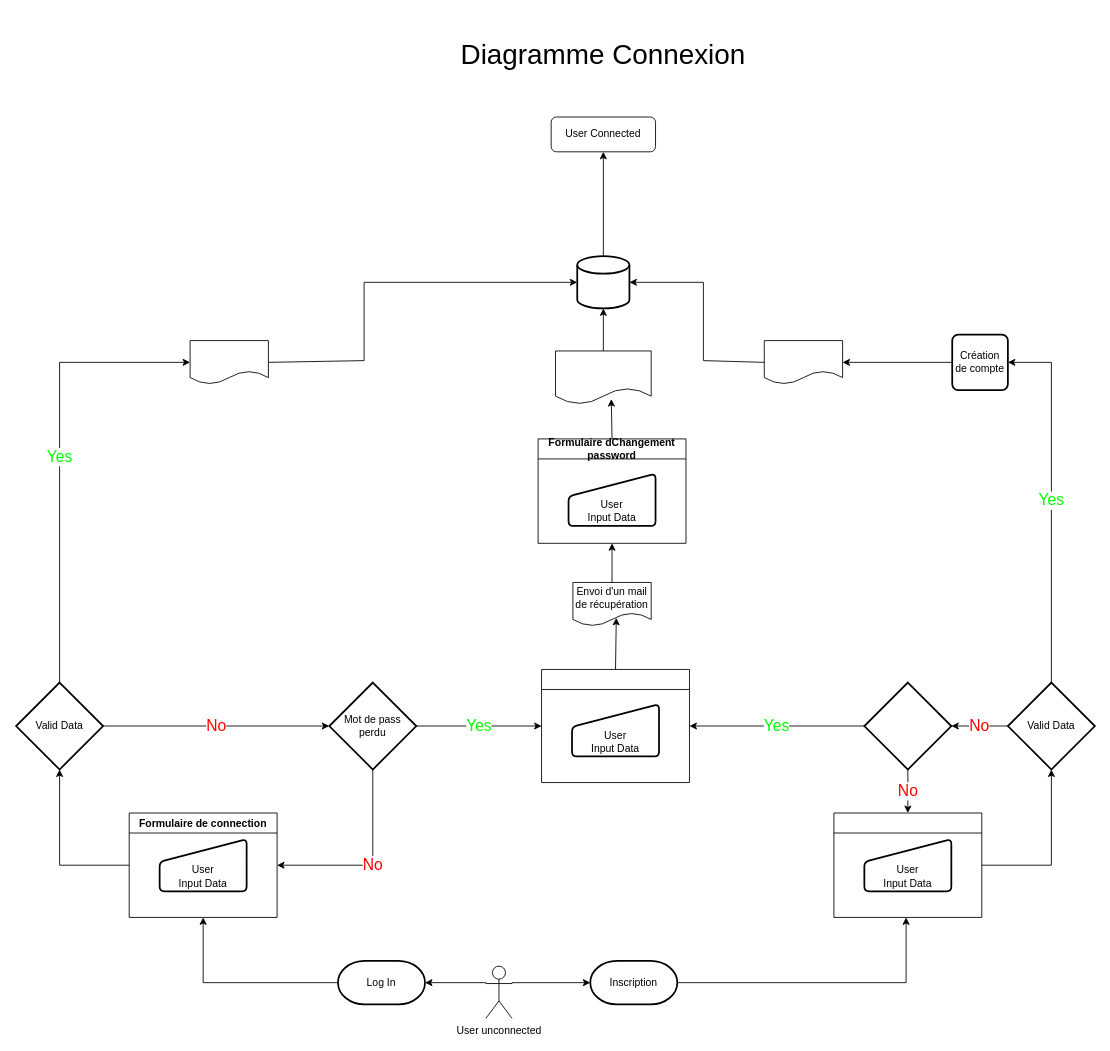
Image size: 1110x1051. Some labels were removed from this diagram. Each missing label, with the box of its shape:
Database: (576, 255, 630, 309)
Envoi d'un mail de confirmation: (763, 340, 843, 384)
Envoi d'un mail de confirmation de changement: (555, 350, 651, 404)
Envoi d'un mail de connexion: (189, 340, 268, 384)
Formulaire d'inscription: (833, 812, 982, 917)
Formulaire récupération de password: (541, 669, 689, 783)
User inscrit: (863, 681, 952, 770)
